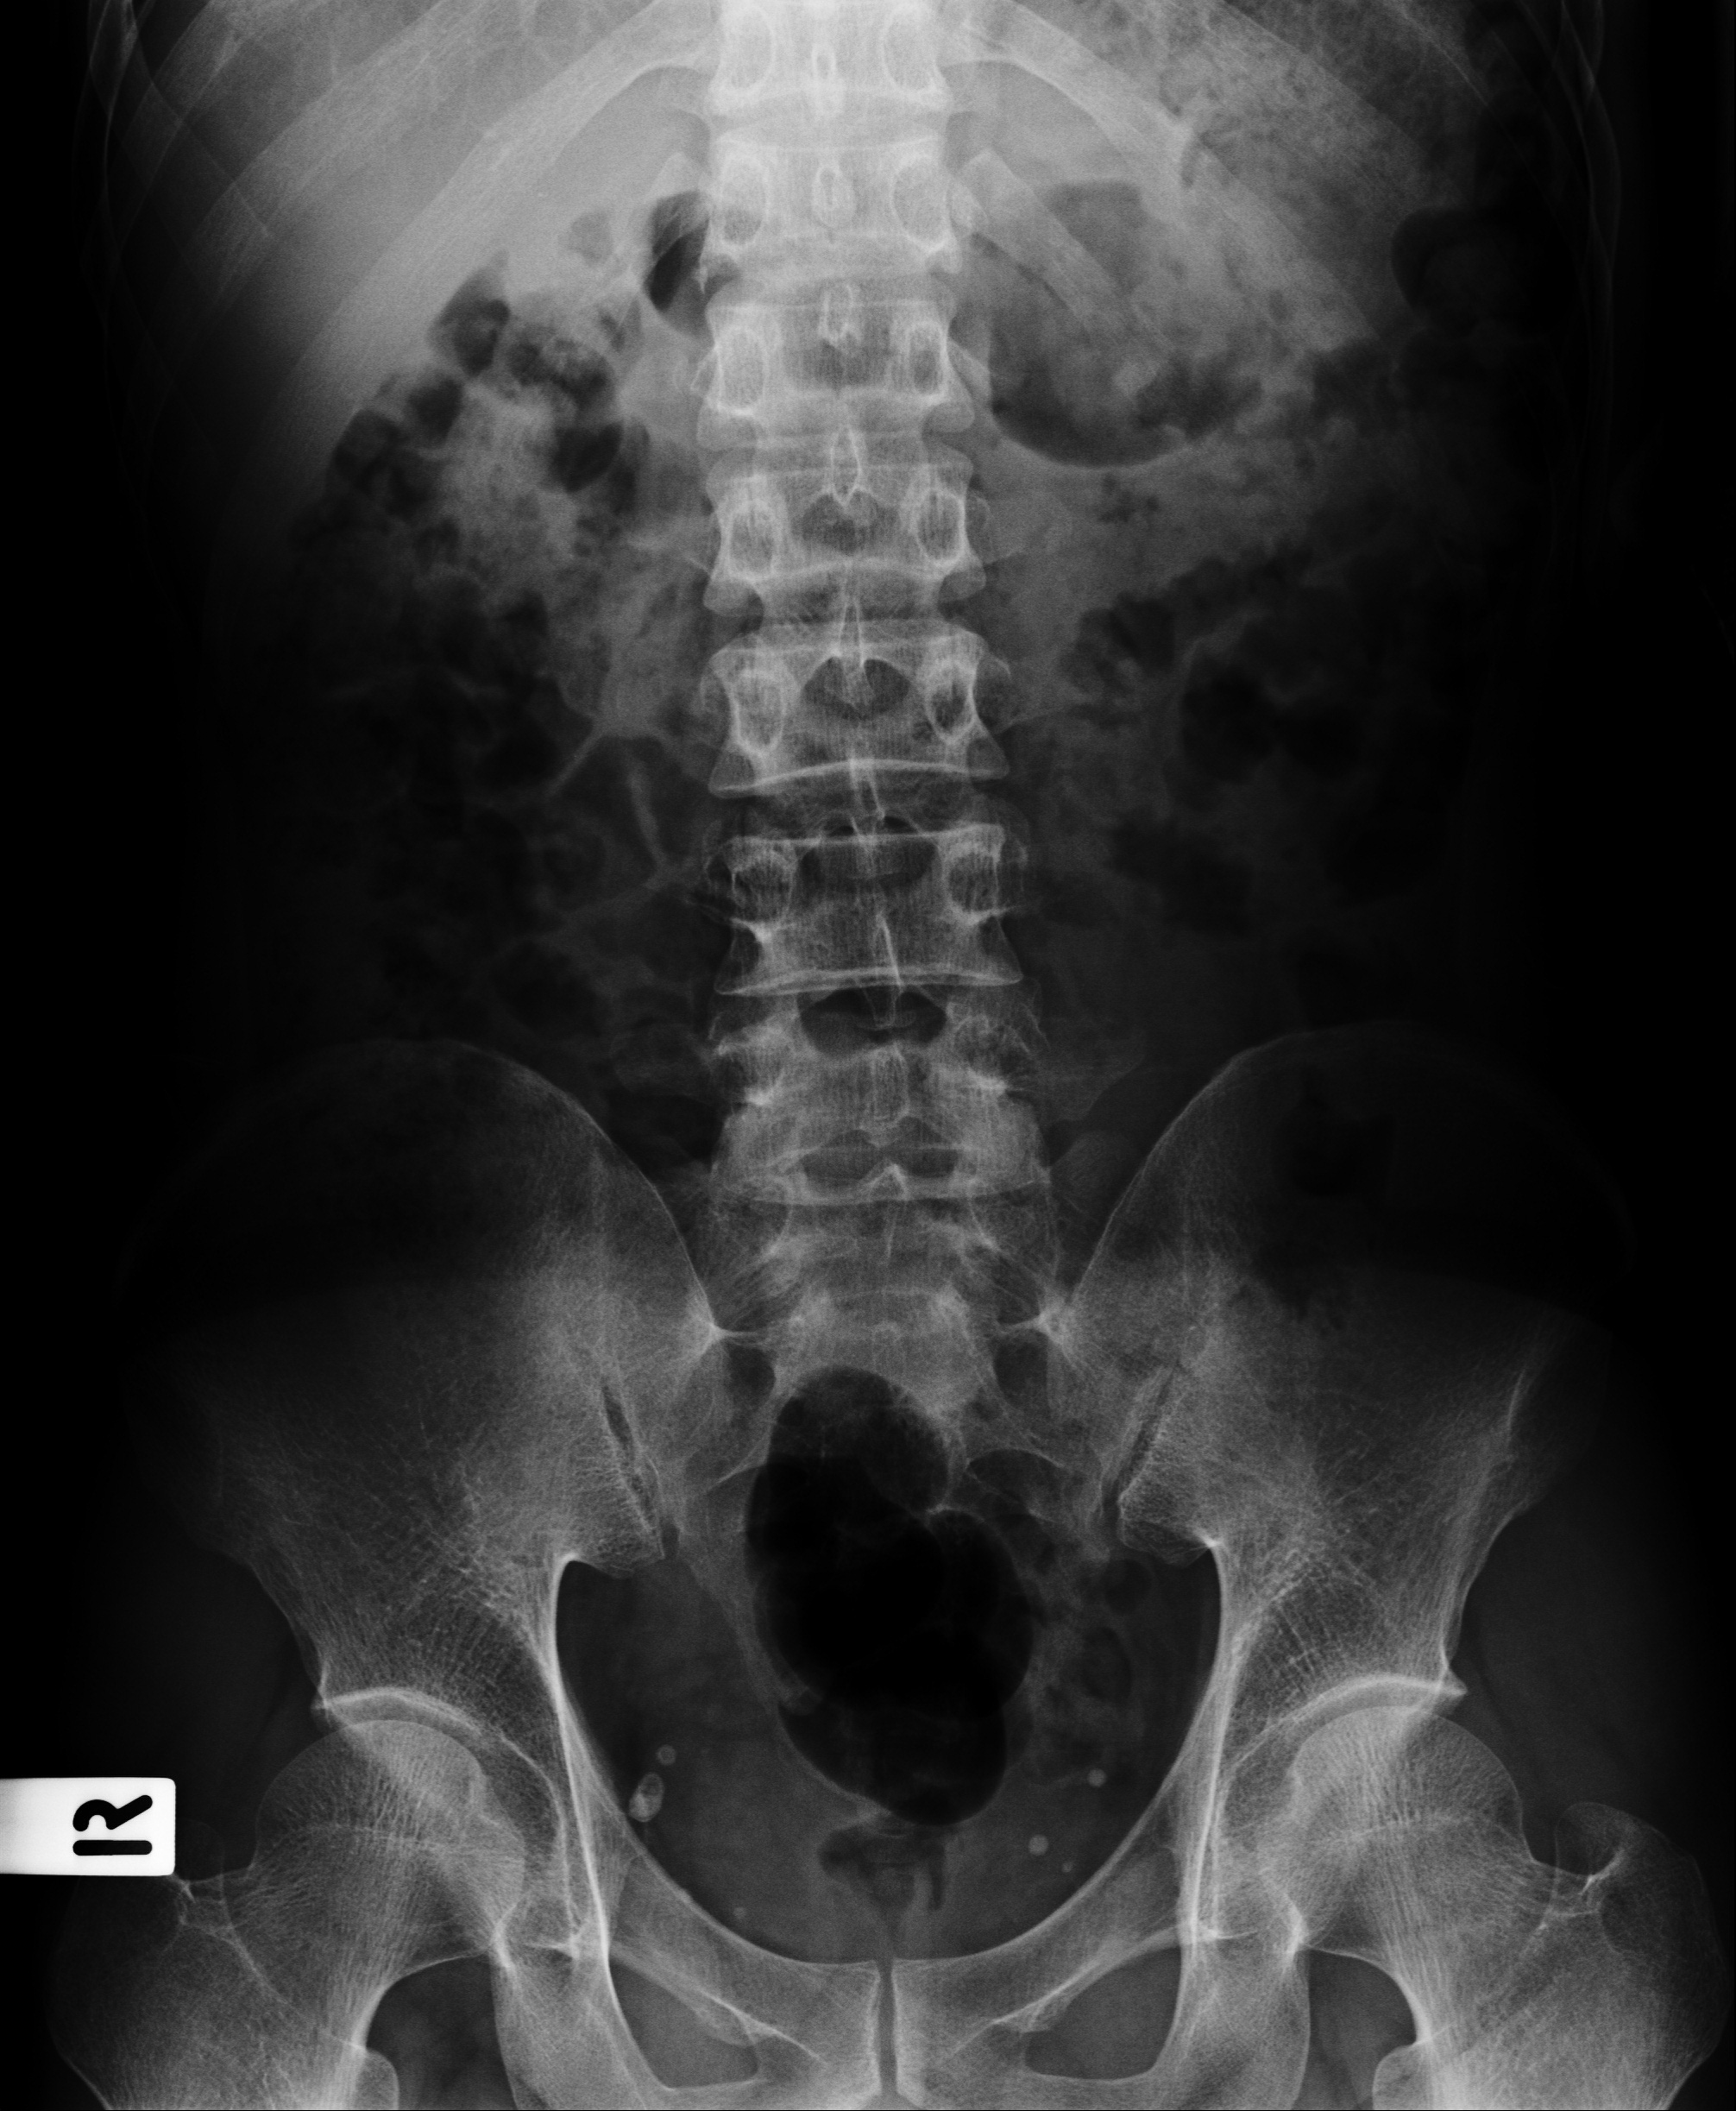lumbar scoliosis: (689, 37, 1043, 1378)
